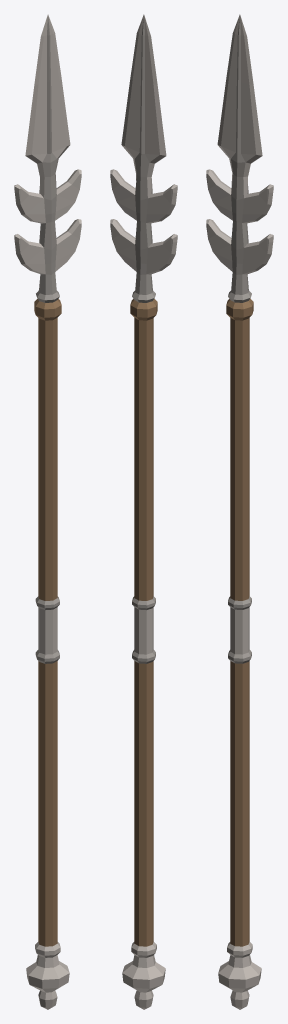
The model's file is SM_pwe_medieval_spear_08.fbx.
3 views of the same model, side by side, from view 1: azimuth 30°, elevation 25°; view 2: azimuth 150°, elevation 25°; view 3: azimuth 330°, elevation 25° (orthographic).
Visible parts, largest first — view 1: SM_pwe_medieval_spear_08; view 2: SM_pwe_medieval_spear_08; view 3: SM_pwe_medieval_spear_08.
Part boxes in pixels (box(x1,y1,x2,y2)): SM_pwe_medieval_spear_08: box(14, 14, 81, 1009); SM_pwe_medieval_spear_08: box(110, 14, 177, 1009); SM_pwe_medieval_spear_08: box(206, 14, 273, 1009).
Bounding box in the file's own units: 19.01 × 270 × 11.09.
